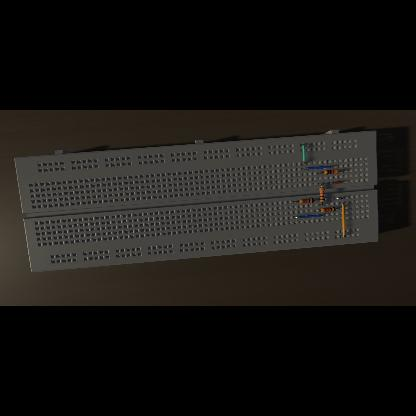breadboard: (15, 130, 379, 272)
resistor: (319, 188, 325, 202), (300, 198, 314, 204), (324, 170, 340, 174), (320, 208, 336, 212)
wire: (340, 203, 346, 237), (302, 166, 332, 170), (294, 215, 322, 219), (301, 145, 305, 165), (330, 182, 342, 184), (318, 184, 322, 188), (335, 198, 343, 200), (318, 172, 324, 174), (320, 202, 323, 206), (336, 208, 338, 210), (340, 170, 340, 172), (293, 202, 299, 202)
